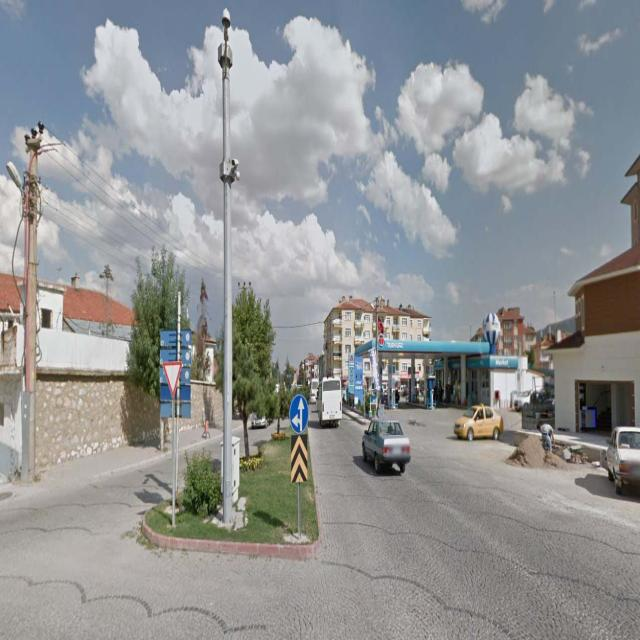ilerisol: (289, 395, 309, 432)
